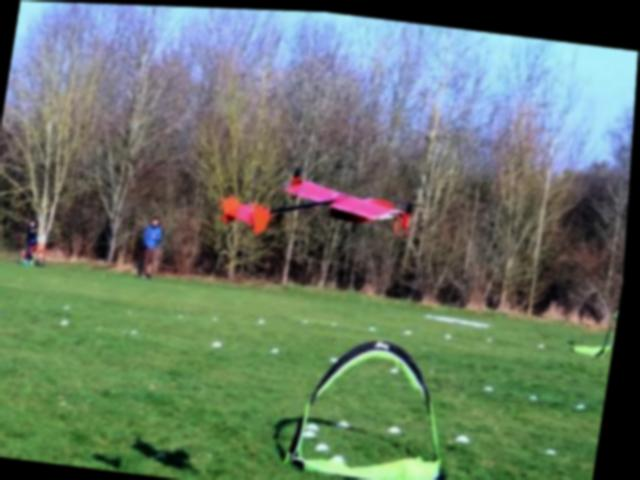uav: (215, 145, 432, 259)
